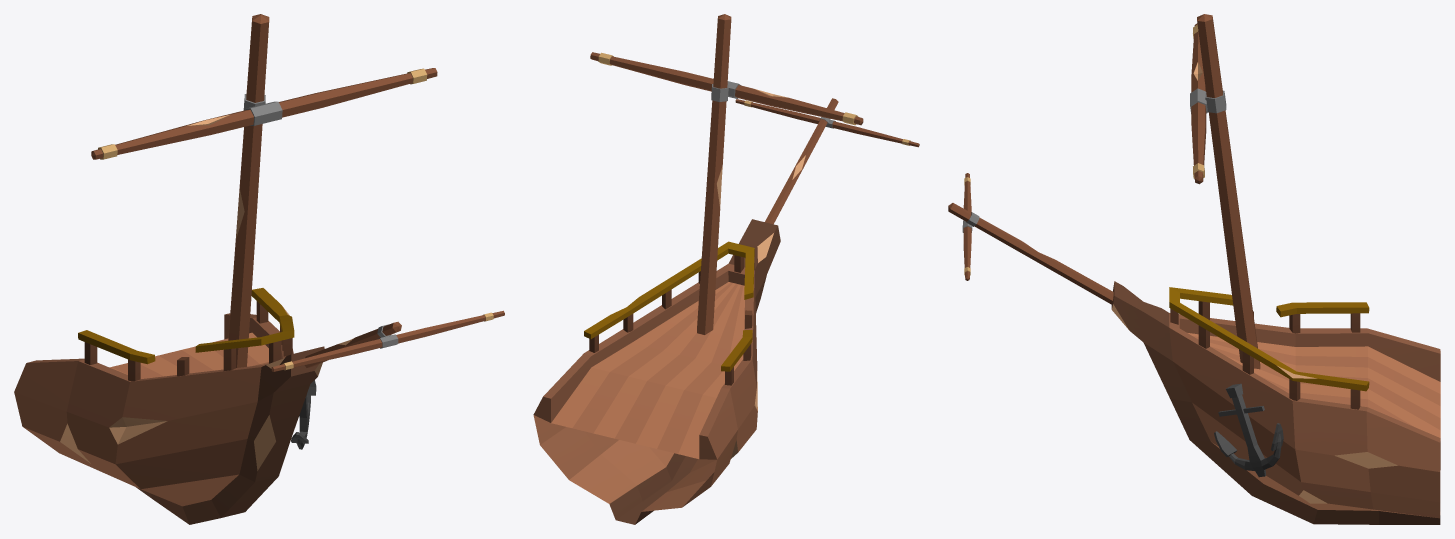
File: front-ship.glb
The picture shows the model from 3 angles, left to right: view 1: azimuth 30°, elevation 25°; view 2: azimuth 150°, elevation 25°; view 3: azimuth 270°, elevation 25°; orthographic projection. The views are drawn at different scales.
Parts seen in each view (by area): view 1: front ship; view 2: front ship; view 3: front ship.
Boxes of the visible parts, x1,y1,x2,y2 form: front ship: (14, 14, 504, 524); front ship: (533, 14, 919, 524); front ship: (948, 14, 1440, 524).
Bounding box in the file's own units: 9.01 × 13.75 × 12.11.
1 material, 1 textured.
